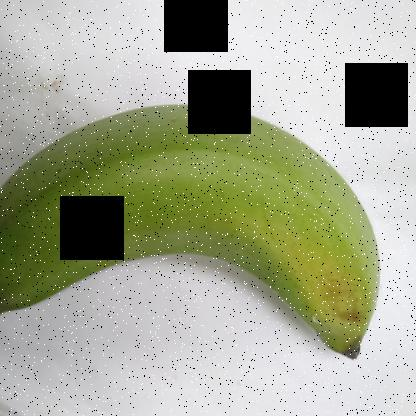freshunripe: (1, 92, 388, 372)
